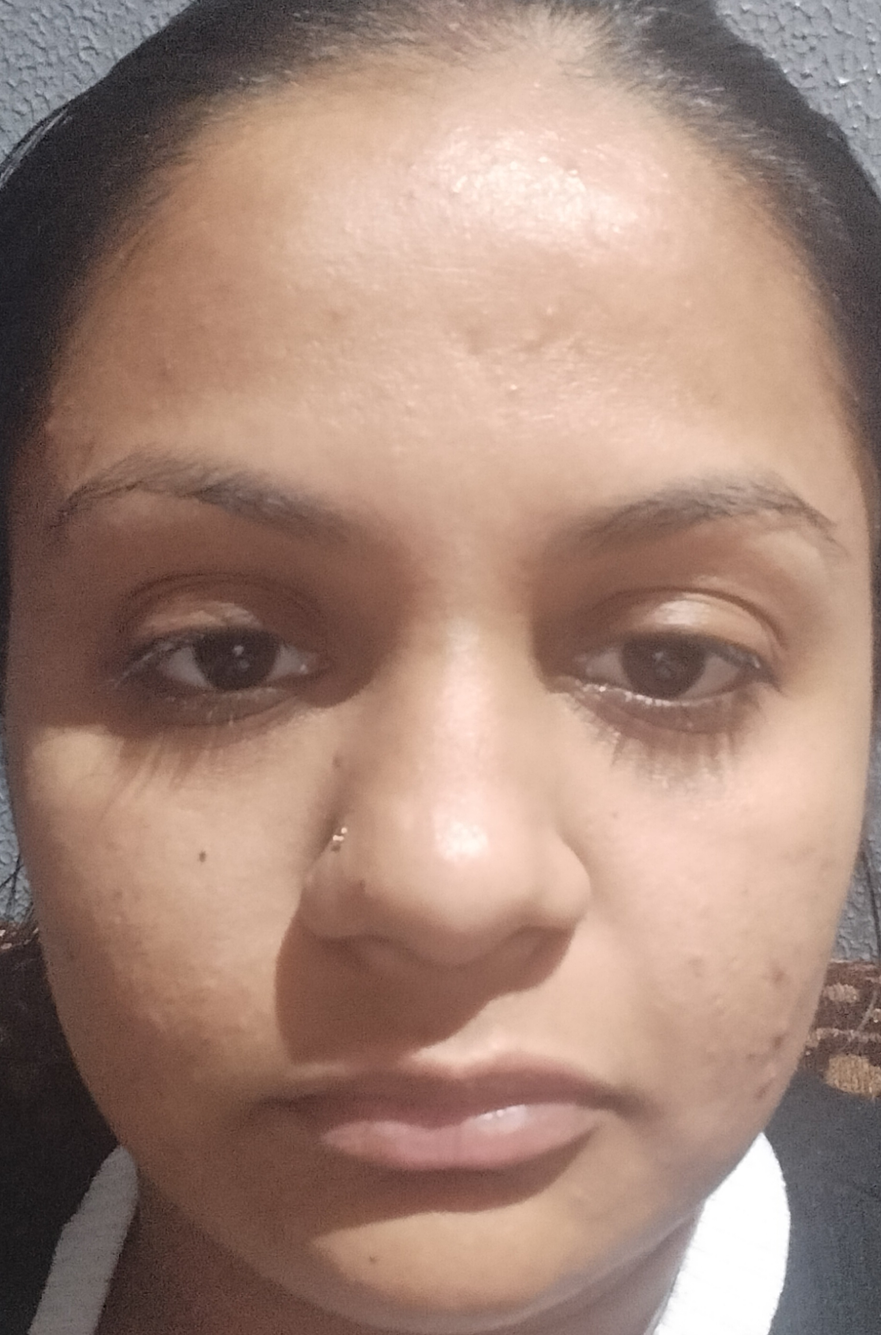closed_comedone: (488, 357, 538, 421), (523, 291, 576, 350)
papule: (761, 1002, 798, 1064), (679, 945, 734, 984)
